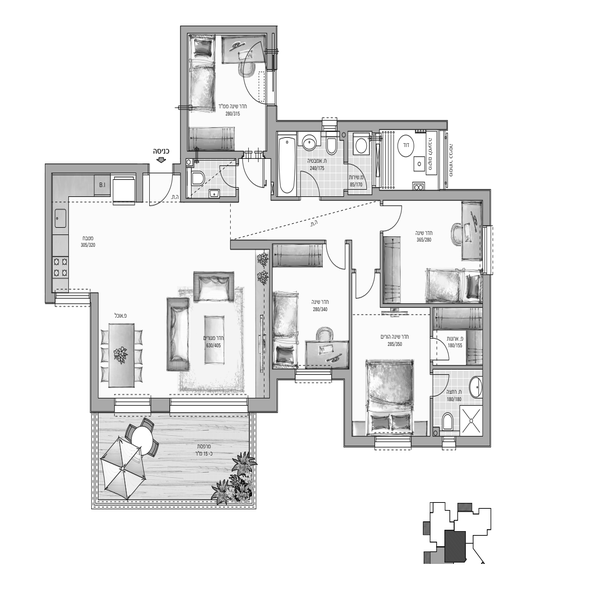door: (373, 199, 406, 232), (352, 269, 382, 305), (339, 158, 368, 192), (427, 333, 455, 364), (322, 240, 349, 268), (240, 157, 266, 186), (213, 161, 237, 188), (298, 168, 321, 196), (431, 371, 452, 397)
room: (87, 238, 280, 416), (343, 305, 492, 447), (177, 17, 285, 204), (377, 186, 497, 311), (263, 240, 355, 379)
wall: (478, 270, 494, 448), (372, 187, 488, 208), (177, 32, 190, 201), (177, 22, 280, 40), (337, 370, 359, 453), (339, 119, 450, 135), (45, 164, 57, 301), (88, 288, 101, 414), (47, 163, 151, 177), (266, 243, 276, 374), (186, 143, 246, 164), (381, 303, 483, 312), (228, 237, 275, 255), (319, 194, 377, 208), (347, 246, 353, 369), (277, 119, 323, 135), (377, 234, 387, 307), (264, 101, 277, 157), (241, 399, 284, 413), (409, 430, 444, 447), (277, 239, 330, 248), (478, 194, 494, 223), (91, 395, 113, 414), (147, 398, 173, 413), (270, 162, 280, 199), (270, 375, 279, 414)
window: (269, 116, 453, 194), (168, 394, 245, 415), (170, 395, 248, 414), (478, 225, 496, 274), (108, 395, 147, 416), (115, 398, 149, 415), (373, 434, 411, 449), (297, 367, 335, 381), (377, 435, 417, 448), (53, 291, 87, 306), (295, 370, 336, 381), (436, 434, 456, 449), (443, 431, 455, 449)
